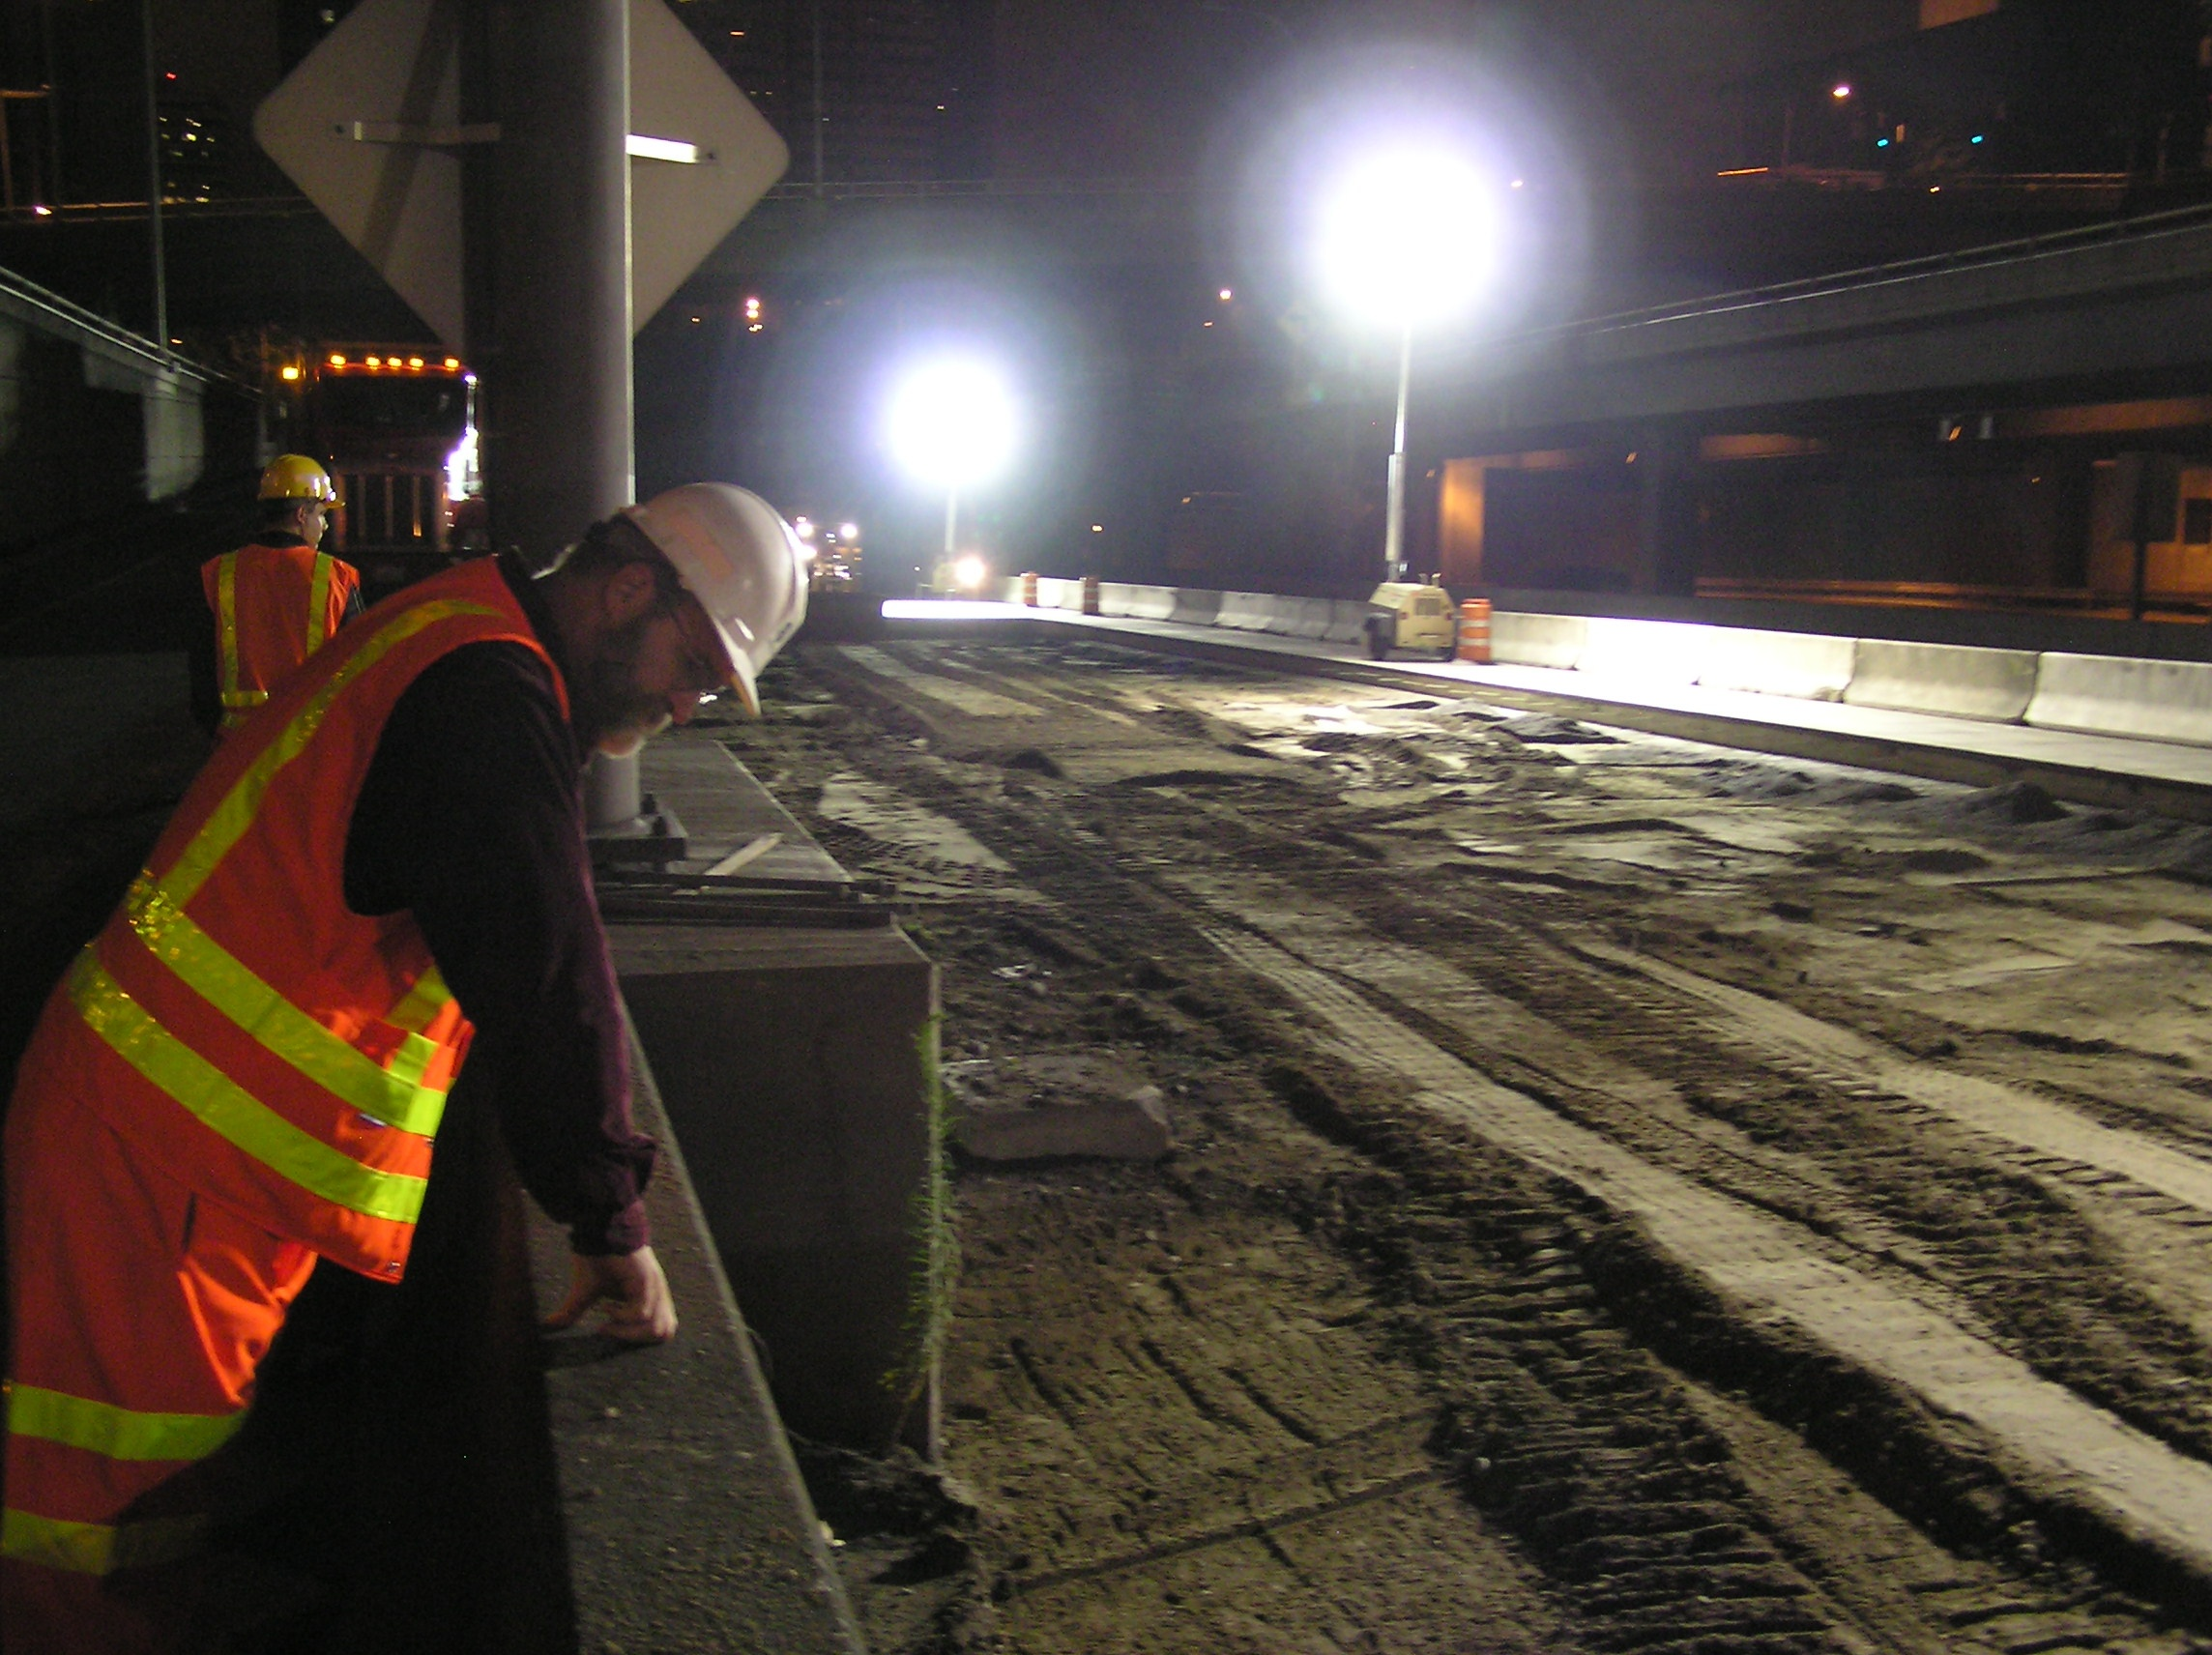white: (550, 473, 810, 748)
yellow: (252, 447, 336, 541)
